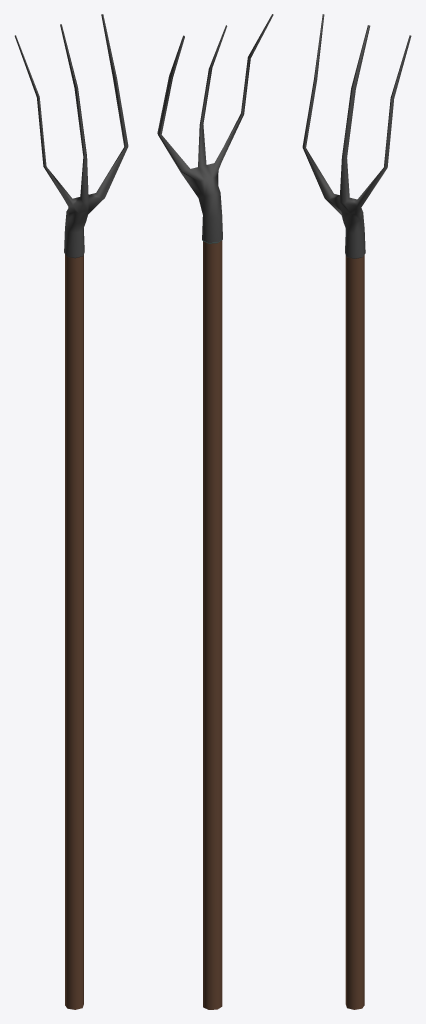
The model's file is Pitchfork.fbx.
The picture shows the model from 3 angles, left to right: view 1: azimuth 30°, elevation 25°; view 2: azimuth 210°, elevation 25°; view 3: azimuth 330°, elevation 25°; orthographic projection. The views are drawn at different scales.
Visible parts, largest first — view 1: Pitchfork; view 2: Pitchfork; view 3: Pitchfork.
Boxes of the visible parts, bbox=[...] form: Pitchfork: bbox=[14, 14, 128, 1009]; Pitchfork: bbox=[157, 14, 273, 1009]; Pitchfork: bbox=[302, 14, 411, 1009].
Bounding box in the file's own units: 16.87 × 176 × 8.63.
2 materials, 2 textured.
